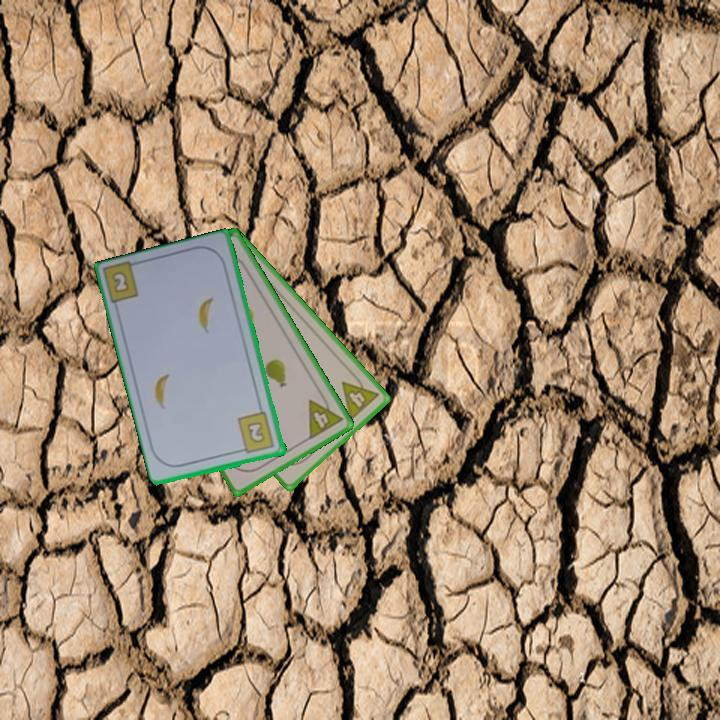2b: (234, 409, 277, 457), (108, 268, 132, 296)
4p: (338, 369, 382, 424), (305, 389, 346, 442)
